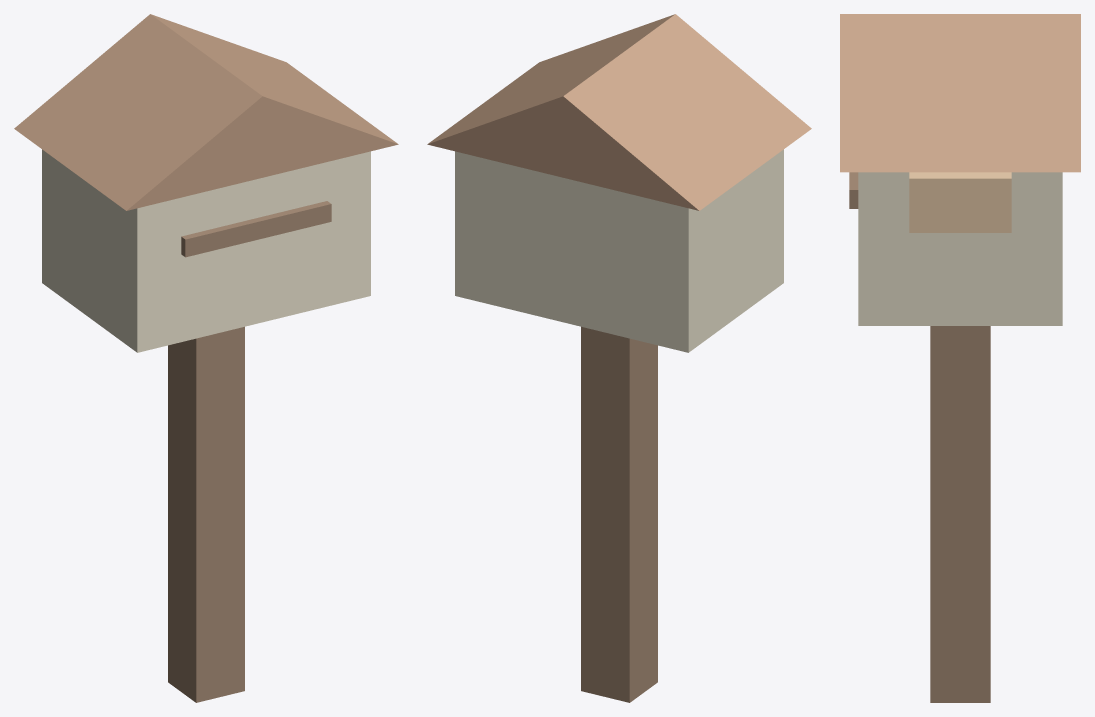
Rendered from mailbox.fbx.
3 renders of one model, left to right at view 1: azimuth 30°, elevation 25°; view 2: azimuth 150°, elevation 25°; view 3: azimuth 270°, elevation 25°, orthographic. The views are drawn at different scales.
Parts seen in each view (by area): view 1: mailbox_geometry; view 2: mailbox_geometry; view 3: mailbox_geometry.
Boxes of the visible parts, bbox=[...] form: mailbox_geometry: bbox=[14, 14, 398, 702]; mailbox_geometry: bbox=[427, 14, 811, 702]; mailbox_geometry: bbox=[840, 14, 1080, 702].
Size of the model in its own units: 0.5625 by 1.24 by 0.4.
